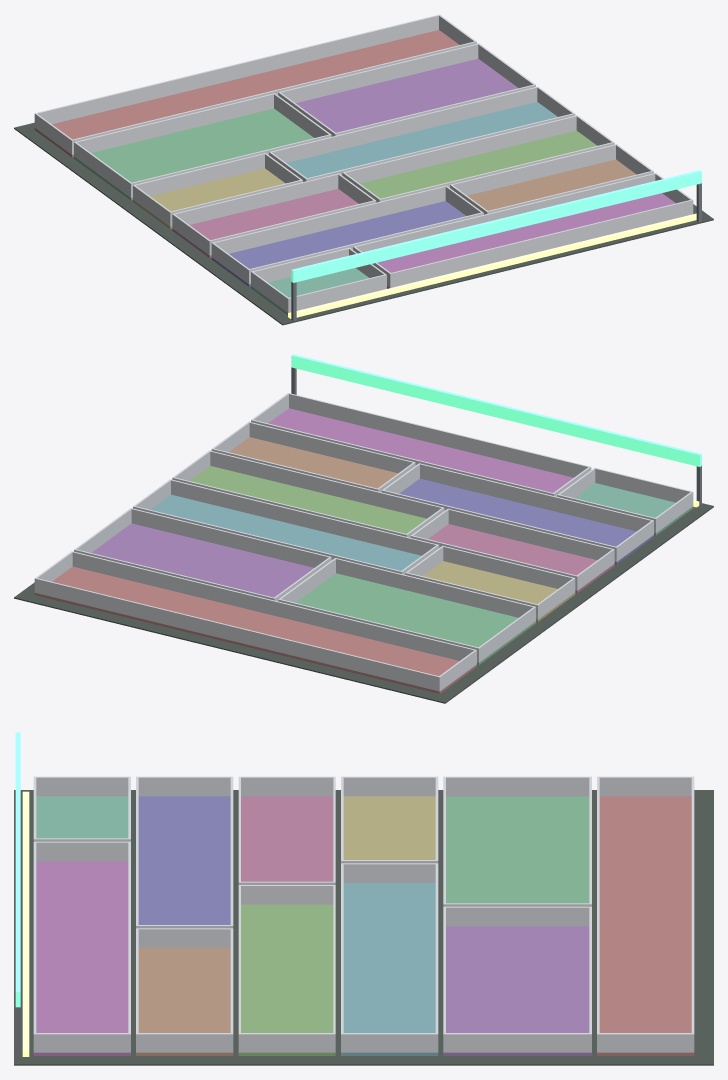
File: hall-mold-remediation.glb
3 renders of one model, top to bottom at view 1: azimuth 30°, elevation 25°; view 2: azimuth 150°, elevation 25°; view 3: azimuth 270°, elevation 25°, orthographic. The views are drawn at different scales.
Parts seen in each view (by area): view 1: Mould Remediation Techs; view 2: Mould Remediation Techs; view 3: Mould Remediation Techs.
Boxes of the visible parts, box(x1,y1,x2,y2) form: Mould Remediation Techs: box(14, 14, 713, 325); Mould Remediation Techs: box(14, 354, 713, 703); Mould Remediation Techs: box(14, 732, 713, 1065).
Size of the model in its own units: 38 by 4.3 by 41.
